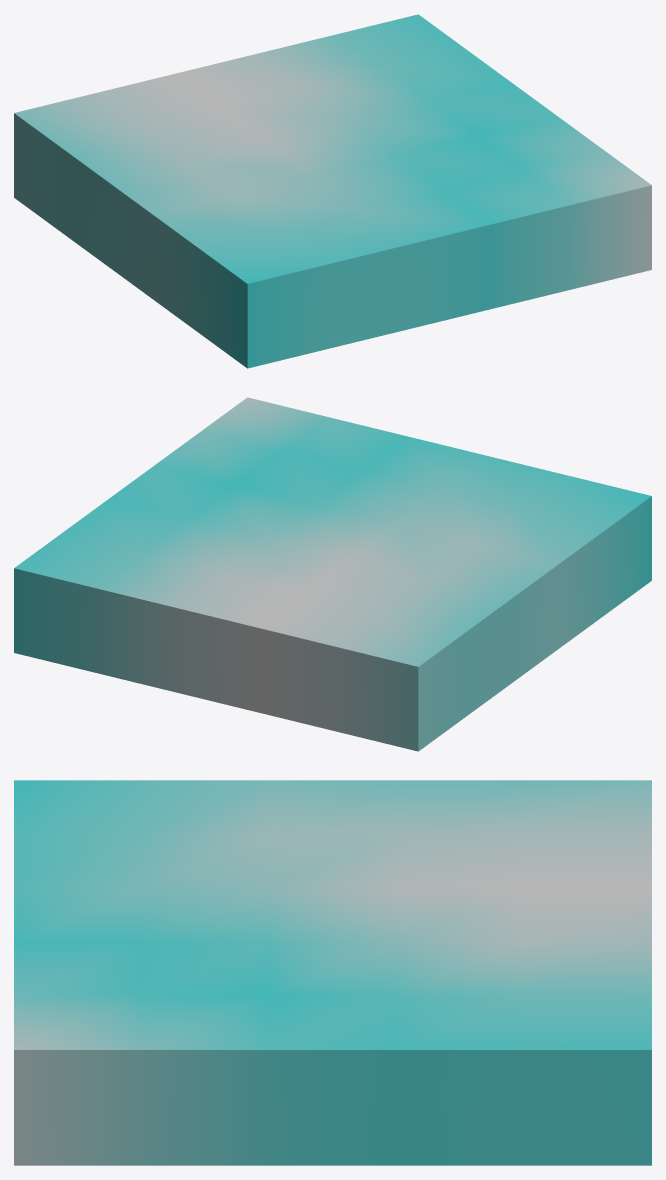
3 renders of one model, top to bottom at view 1: azimuth 30°, elevation 25°; view 2: azimuth 150°, elevation 25°; view 3: azimuth 270°, elevation 25°, orthographic. The views are drawn at different scales.
Visible parts, largest first — view 1: SM_SM_Floor5x5-1_LOD0; view 2: SM_SM_Floor5x5-1_LOD0; view 3: SM_SM_Floor5x5-1_LOD0.
Part boxes in pixels (box(x1,y1,x2,y2)): SM_SM_Floor5x5-1_LOD0: box(14, 14, 651, 368); SM_SM_Floor5x5-1_LOD0: box(14, 397, 651, 751); SM_SM_Floor5x5-1_LOD0: box(14, 780, 651, 1165).
Size of the model in its own units: 500 by 500 by 100.
